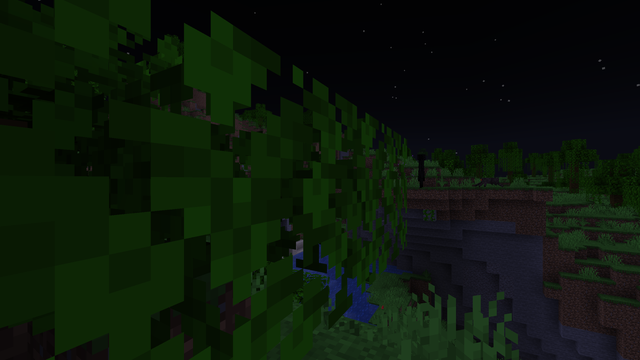araignees: (478, 176, 498, 186)
endermens: (417, 152, 425, 186)
